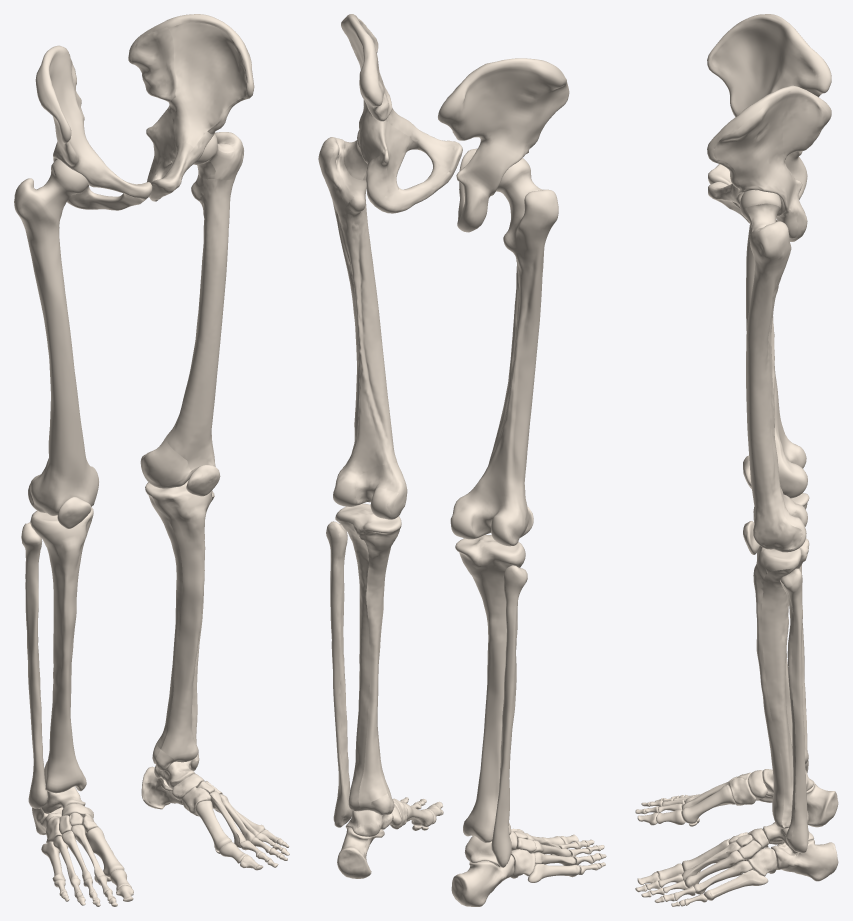
Rendered from overview-lower-limb.glb.
The picture shows the model from 3 angles, left to right: view 1: azimuth 30°, elevation 25°; view 2: azimuth 150°, elevation 25°; view 3: azimuth 270°, elevation 25°; orthographic projection. The views are drawn at different scales.
Visible parts, largest first — view 1: Hip bone.l, Femur.r, Femur.l, Tibia.l, Tibia.r, Hip bone.r, Fibula.r, Calcaneus.l, First metatarsal bone.r, Patella.l, First metatarsal bone.l, Patella.r (+3 smaller); view 2: Femur.r, Femur.l, Hip bone.r, Tibia.l, Hip bone.l, Tibia.r, Fibula.l, Fibula.r, Calcaneus.r, Calcaneus.l, Talus.l, Talus.r (+1 smaller); view 3: Femur.l, Hip bone.l, Hip bone.r, Tibia.l, Fibula.l, Femur.r, Calcaneus.l, Calcaneus.r, First metatarsal bone.r, Fifth metatarsal bone.l, Tibia.r, Cuboid bone.l (+7 smaller).
Boxes of the visible parts, x1,y1,x2,y2 form: Hip bone.l: [128, 14, 254, 201]; Femur.r: [14, 159, 98, 515]; Femur.l: [140, 132, 243, 488]; Tibia.l: [145, 480, 212, 770]; Tibia.r: [30, 507, 93, 793]; Hip bone.r: [35, 45, 152, 210]; Fibula.r: [21, 522, 47, 808]; Calcaneus.l: [141, 766, 182, 809]; First metatarsal bone.r: [86, 827, 124, 877]; Patella.l: [186, 465, 220, 496]; First metatarsal bone.l: [195, 800, 231, 850]; Patella.r: [57, 497, 91, 528]; Femur.r: [450, 158, 558, 546]; Femur.l: [318, 130, 407, 519]; Hip bone.r: [438, 58, 569, 232]; Tibia.l: [335, 503, 401, 815]; Hip bone.l: [341, 14, 462, 213]; Tibia.r: [455, 534, 525, 842]; Fibula.l: [326, 521, 352, 827]; Fibula.r: [491, 565, 527, 867]; Calcaneus.r: [451, 855, 514, 906]; Calcaneus.l: [337, 828, 384, 878]; Talus.l: [345, 810, 392, 836]; Talus.r: [464, 835, 499, 867]; Femur.l: [740, 190, 807, 552]; Hip bone.l: [707, 85, 831, 241]; Hip bone.r: [707, 14, 831, 199]; Tibia.l: [753, 538, 809, 828]; Fibula.l: [780, 568, 808, 853]; Femur.r: [746, 224, 807, 498]; Calcaneus.l: [771, 839, 838, 881]; Calcaneus.r: [806, 781, 838, 827]; First metatarsal bone.r: [681, 784, 735, 823]; Fifth metatarsal bone.l: [704, 870, 768, 900]; Tibia.r: [753, 493, 809, 764]; Cuboid bone.l: [747, 847, 776, 876].
Bounding box in the file's own units: 0.2964 × 1 × 0.2306.
